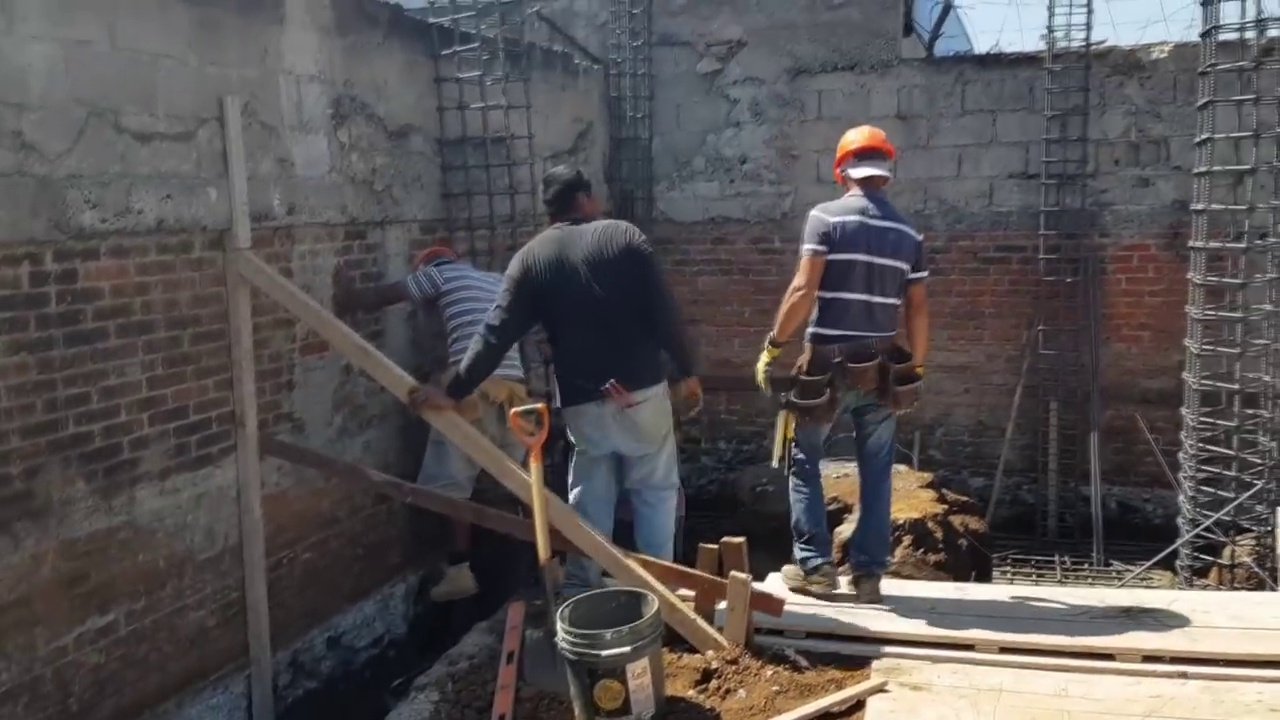helmet: (829, 125, 900, 183)
helmet-off: (541, 167, 600, 227), (419, 234, 447, 258)
helmet-on: (828, 125, 900, 208), (409, 235, 459, 273)
person: (481, 176, 703, 587), (764, 130, 931, 620), (404, 224, 535, 548)
